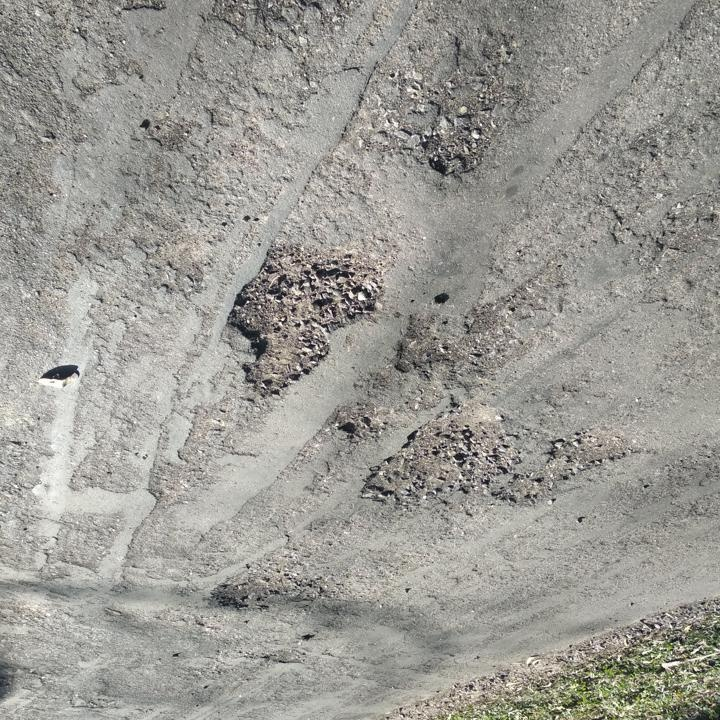pothole: (219, 239, 390, 401), (354, 408, 521, 519), (419, 36, 519, 179), (492, 428, 643, 510), (390, 296, 525, 375), (206, 553, 304, 612), (333, 404, 403, 441)
